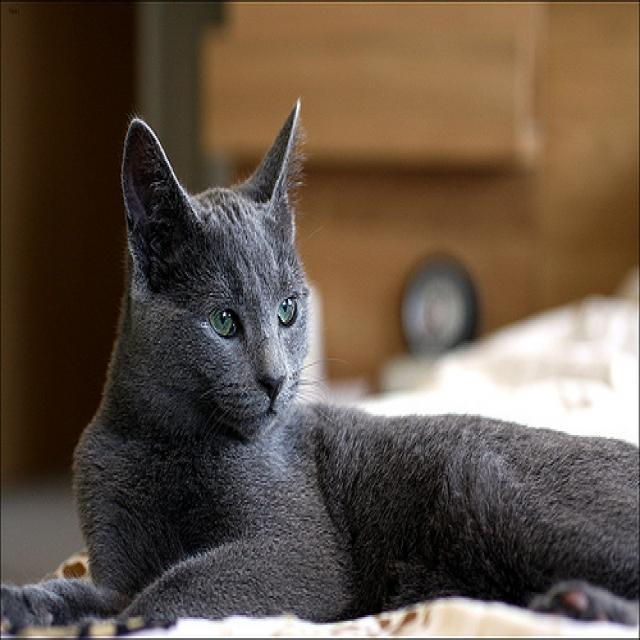Russian_Blue: (111, 84, 318, 450)
